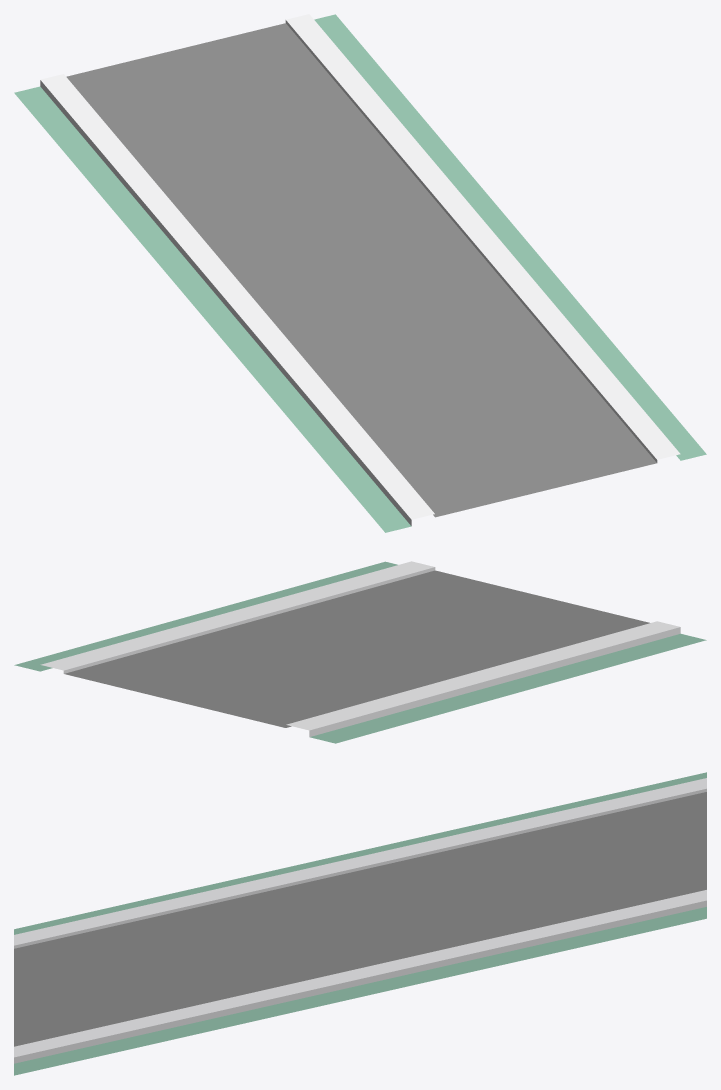
Rendered from roadRampLong.glb.
3 renders of one model, top to bottom at view 1: azimuth 30°, elevation 25°; view 2: azimuth 150°, elevation 25°; view 3: azimuth 270°, elevation 25°, orthographic. The views are drawn at different scales.
Parts seen in each view (by area): view 1: roadRampLong(Clone); view 2: roadRampLong(Clone); view 3: roadRampLong(Clone).
Boxes of the visible parts, x1,y1,x2,y2 form: roadRampLong(Clone): (14, 14, 706, 532); roadRampLong(Clone): (14, 561, 706, 743); roadRampLong(Clone): (14, 772, 706, 1075).
Size of the model in its own units: 1 by 0.52 by 2.
Materials: 1 (1 with a texture image).
